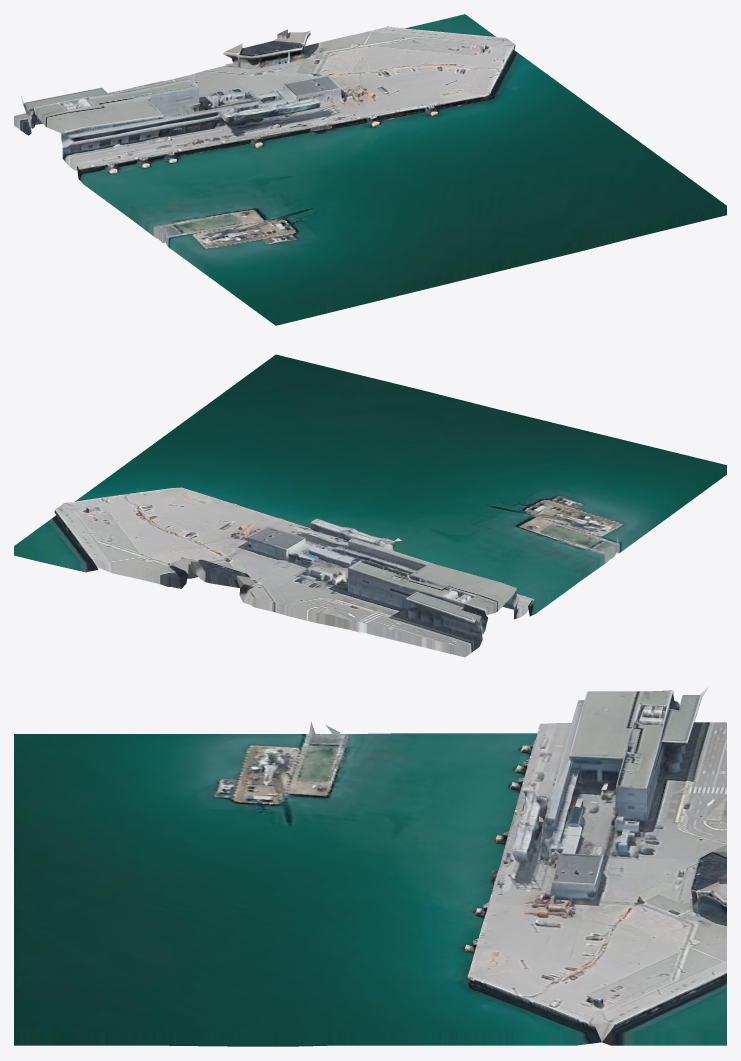
File: z17-20971-50647-h0-yup-uvflip-v3-world.glb
3 renders of one model, top to bottom at view 1: azimuth 30°, elevation 25°; view 2: azimuth 150°, elevation 25°; view 3: azimuth 270°, elevation 25°, orthographic. The views are drawn at different scales.
Size of the model in its own units: 241 by 22.72 by 243.
Materials: 1 (1 with a texture image).
